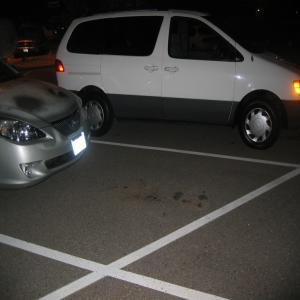Vehicle-registration-plate: (70, 133, 89, 156)
